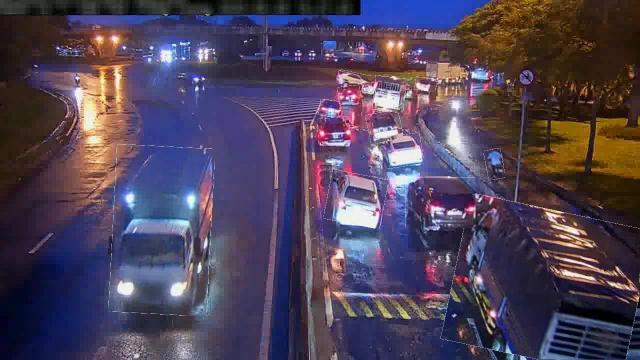Bike: (484, 148, 504, 180)
Car: (406, 178, 476, 228), (326, 172, 386, 228), (378, 134, 422, 168), (366, 110, 402, 142), (318, 118, 350, 146), (338, 86, 362, 105), (338, 72, 372, 84), (320, 100, 340, 116), (415, 77, 437, 91)
Truck: (447, 201, 639, 359), (111, 145, 213, 314), (374, 76, 406, 112)
